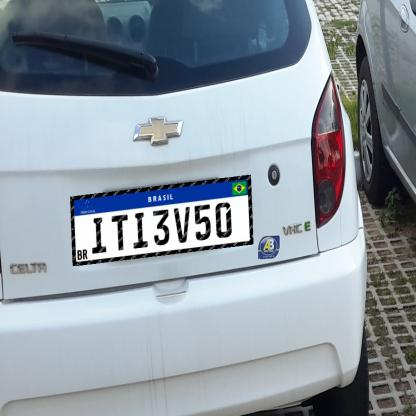PlacaM: (70, 175, 254, 266)
